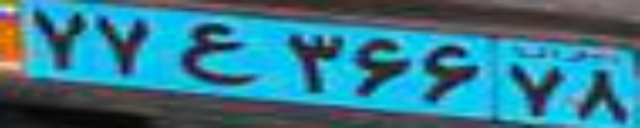3: (287, 32, 345, 93)
6: (417, 42, 484, 103), (352, 37, 412, 96)
7: (501, 61, 568, 118), (30, 9, 88, 72), (95, 12, 152, 76)
8: (574, 66, 630, 125)
ain: (176, 20, 256, 85)
